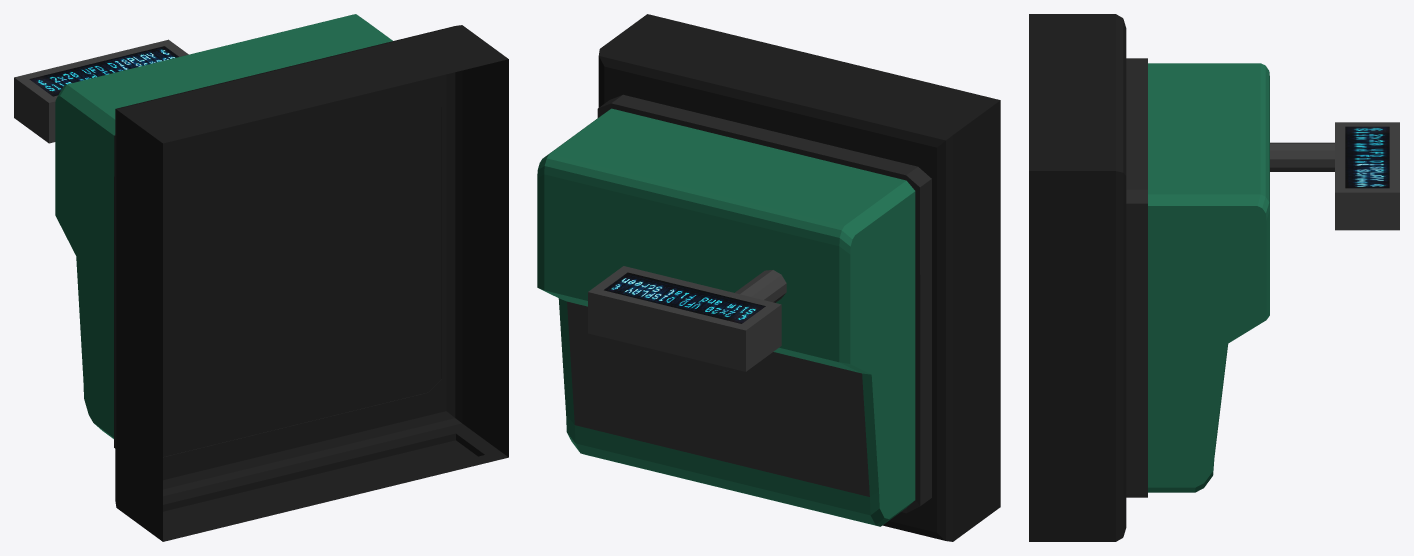
The model's file is cashbox.fbx.
The picture shows the model from 3 angles, left to right: view 1: azimuth 30°, elevation 25°; view 2: azimuth 150°, elevation 25°; view 3: azimuth 270°, elevation 25°; orthographic projection. The views are drawn at different scales.
Parts seen in each view (by area): view 1: cashbox; view 2: cashbox; view 3: cashbox.
Part boxes in pixels (x1=…): cashbox: x1=14, y1=14, x2=508, y2=541; cashbox: x1=537, y1=14, x2=1000, y2=541; cashbox: x1=1029, y1=14, x2=1399, y2=541.
Bounding box in the file's own units: 191 × 214 × 190.
